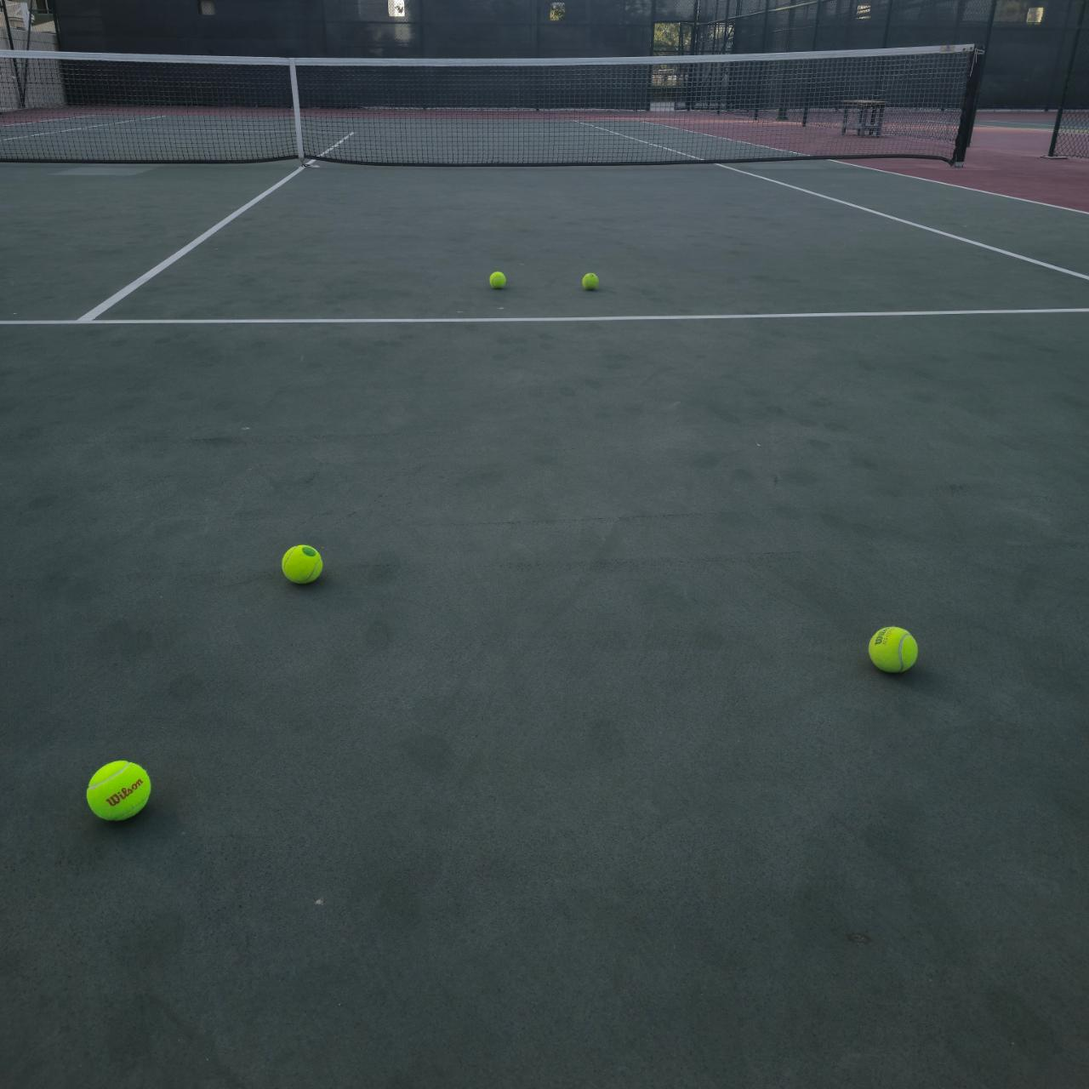tennis-ball: (84, 756, 151, 822), (866, 623, 920, 674), (279, 541, 323, 584), (579, 270, 598, 290), (487, 268, 506, 288)
